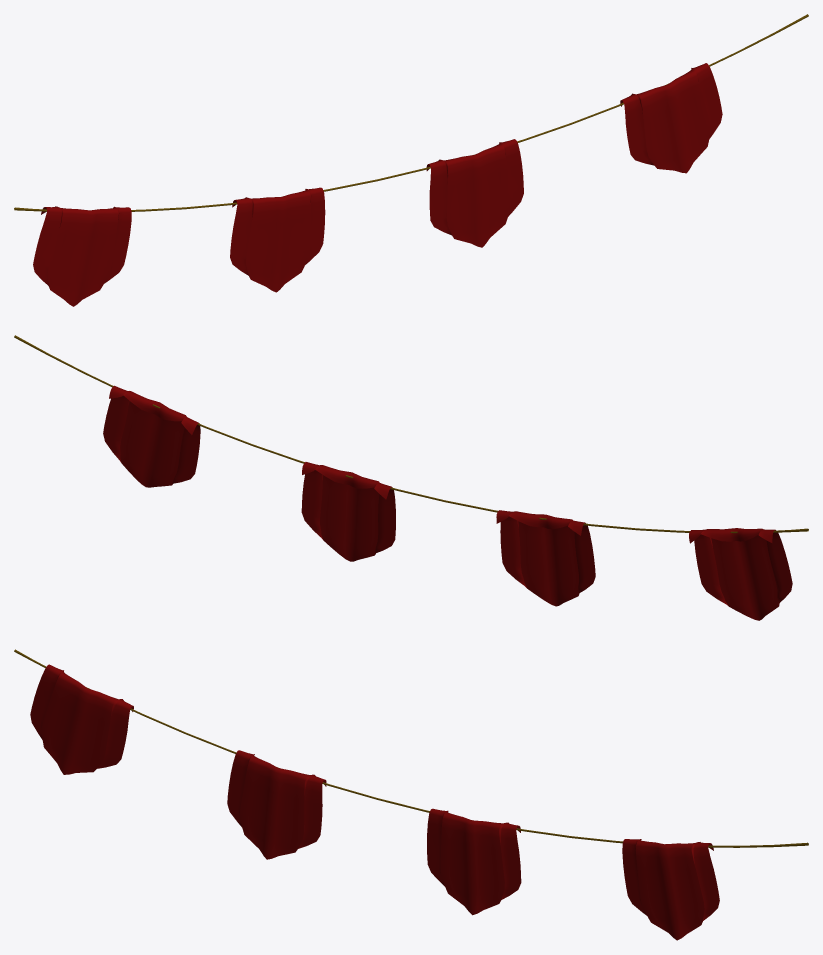
Rendered from SM_BandeiraVermelha.fbx.
3 views of the same model, one above another, from view 1: azimuth 30°, elevation 25°; view 2: azimuth 150°, elevation 25°; view 3: azimuth 330°, elevation 25° (orthographic).
Visible parts, largest first — view 1: SM_BandeiraVermelha; view 2: SM_BandeiraVermelha; view 3: SM_BandeiraVermelha.
Part boxes in pixels (<box>): SM_BandeiraVermelha: <box>14,14,808,306</box>; SM_BandeiraVermelha: <box>14,335,808,620</box>; SM_BandeiraVermelha: <box>14,649,808,940</box>.
Size of the model in its own units: 61.33 by 11.04 by 1.33.
